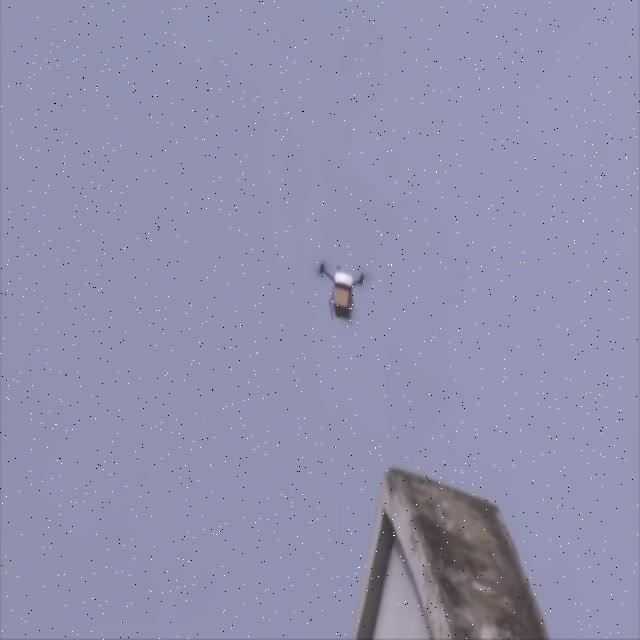UAV: (319, 262, 365, 326)
